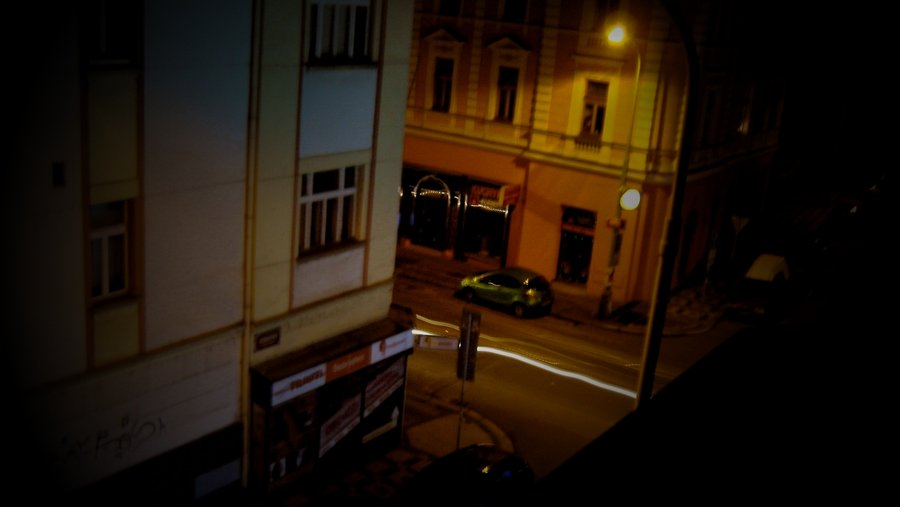car: (453, 260, 558, 324)
